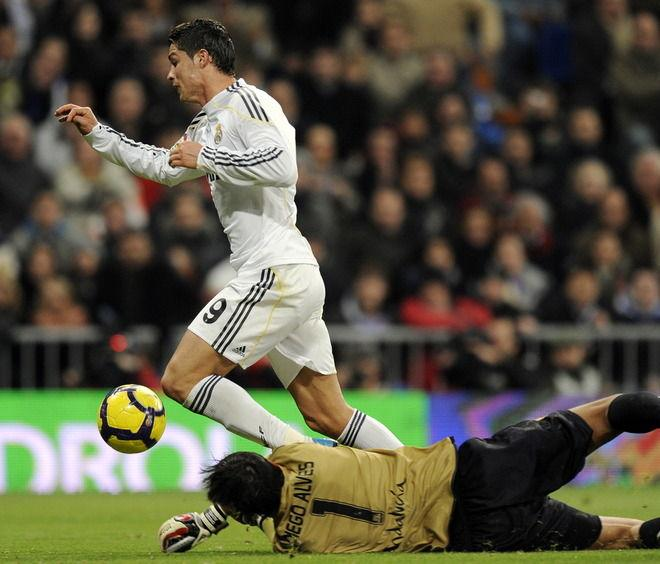down: (207, 386, 660, 548)
up: (54, 15, 412, 469)
